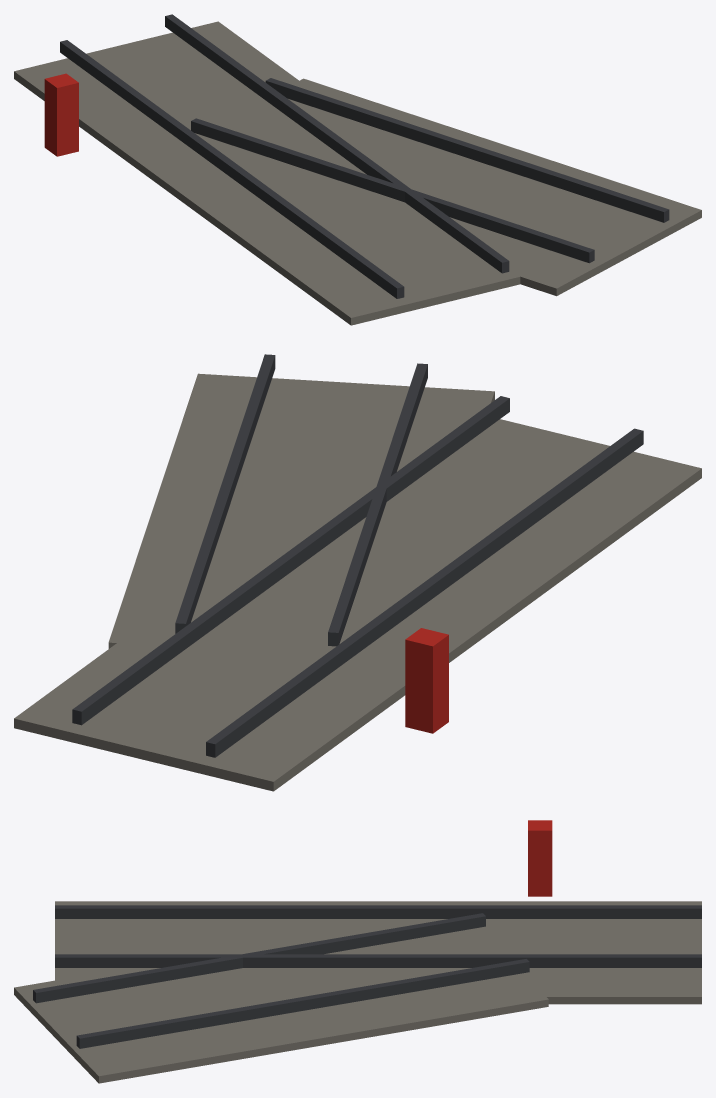
File: road_rail_v_switch_lod2.glb
The picture shows the model from 3 angles, top to bottom: view 1: azimuth 30°, elevation 25°; view 2: azimuth 150°, elevation 25°; view 3: azimuth 270°, elevation 25°; orthographic projection. The views are drawn at different scales.
Visible parts, largest first — view 1: body, lever; view 2: body, lever; view 3: body, lever.
Boxes of the visible parts, box(x1,y1,x2,y2) form: body: box(14, 14, 701, 325); lever: box(44, 73, 78, 156); body: box(14, 354, 701, 791); lever: box(405, 628, 448, 733); body: box(14, 901, 701, 1083); lever: box(528, 820, 552, 896).
Size of the model in its own units: 5.77 by 0.9 by 8.51.
